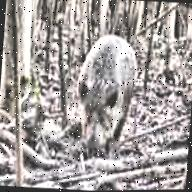boar: (52, 25, 152, 168)
